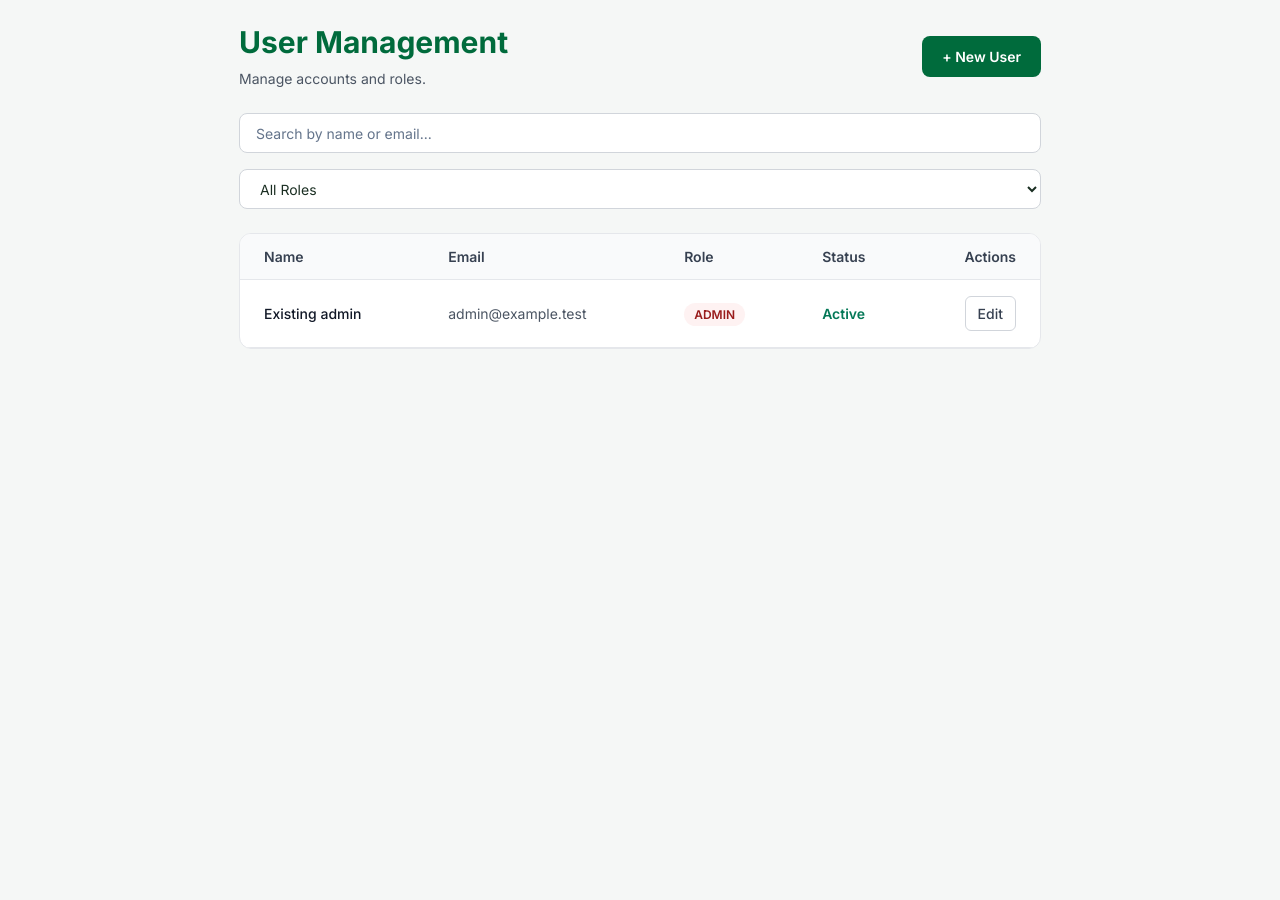
retains user fields on save failure and prevents repeated saves while pending
Expected: the text "Existing admin" is shown, [240,280,424,348]
Click the button "+ New User" at (982, 56), box [922,36,1041,77]
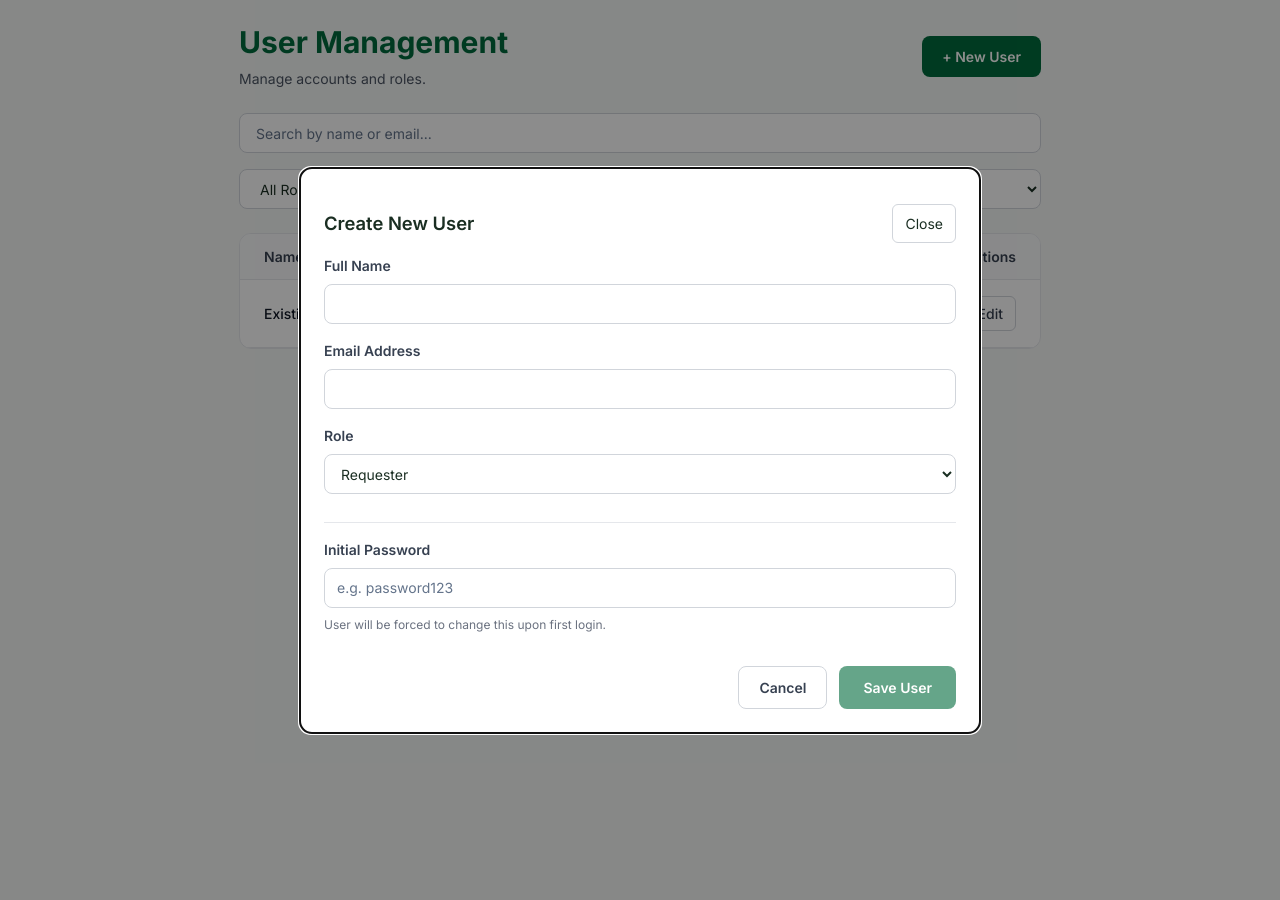
Type "Preserved name" into the field labelled "Full Name" at (640, 304), box [324,284,956,324]
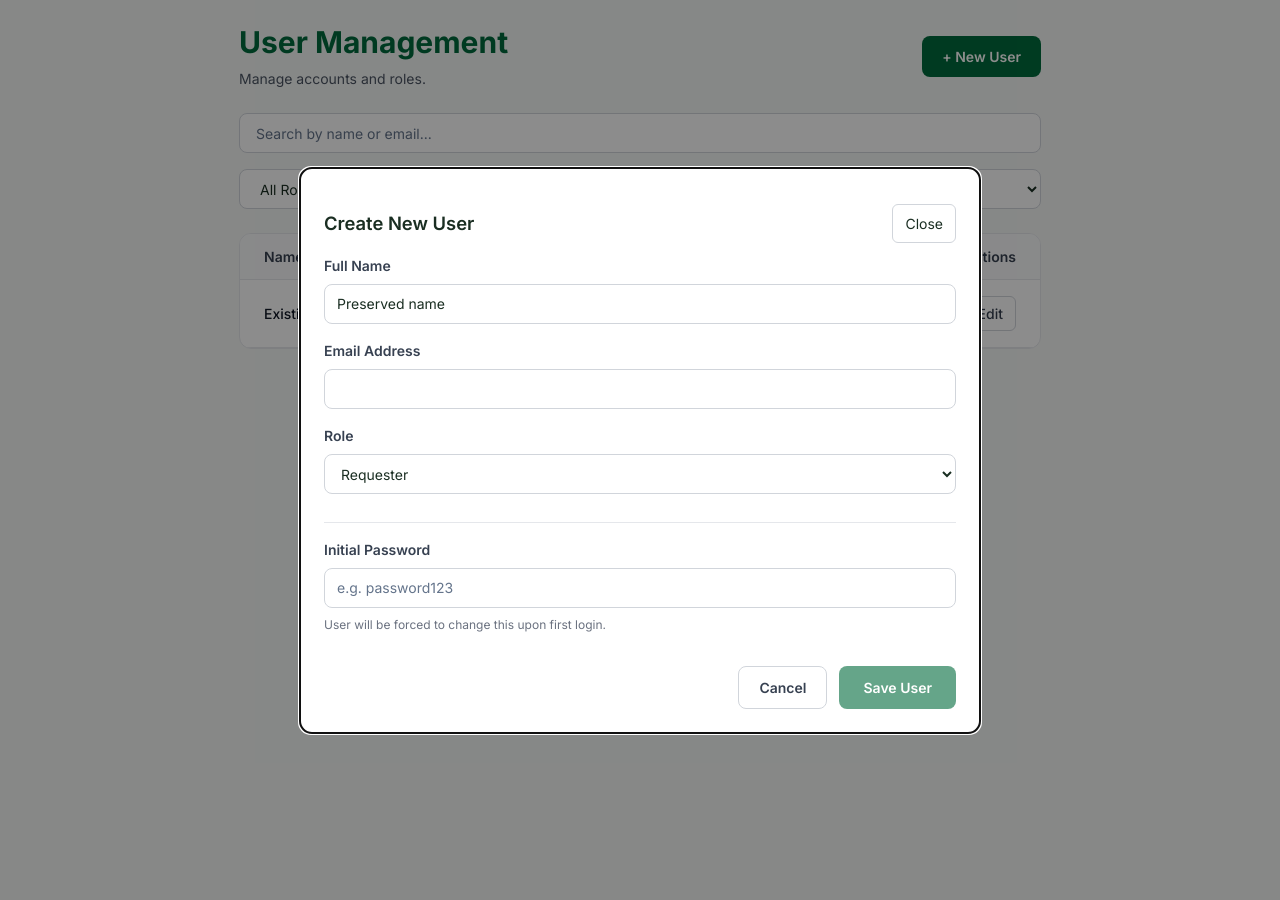
Type "preserved@example.test" into the field labelled "Email Address" at (640, 388), box [324,368,956,408]
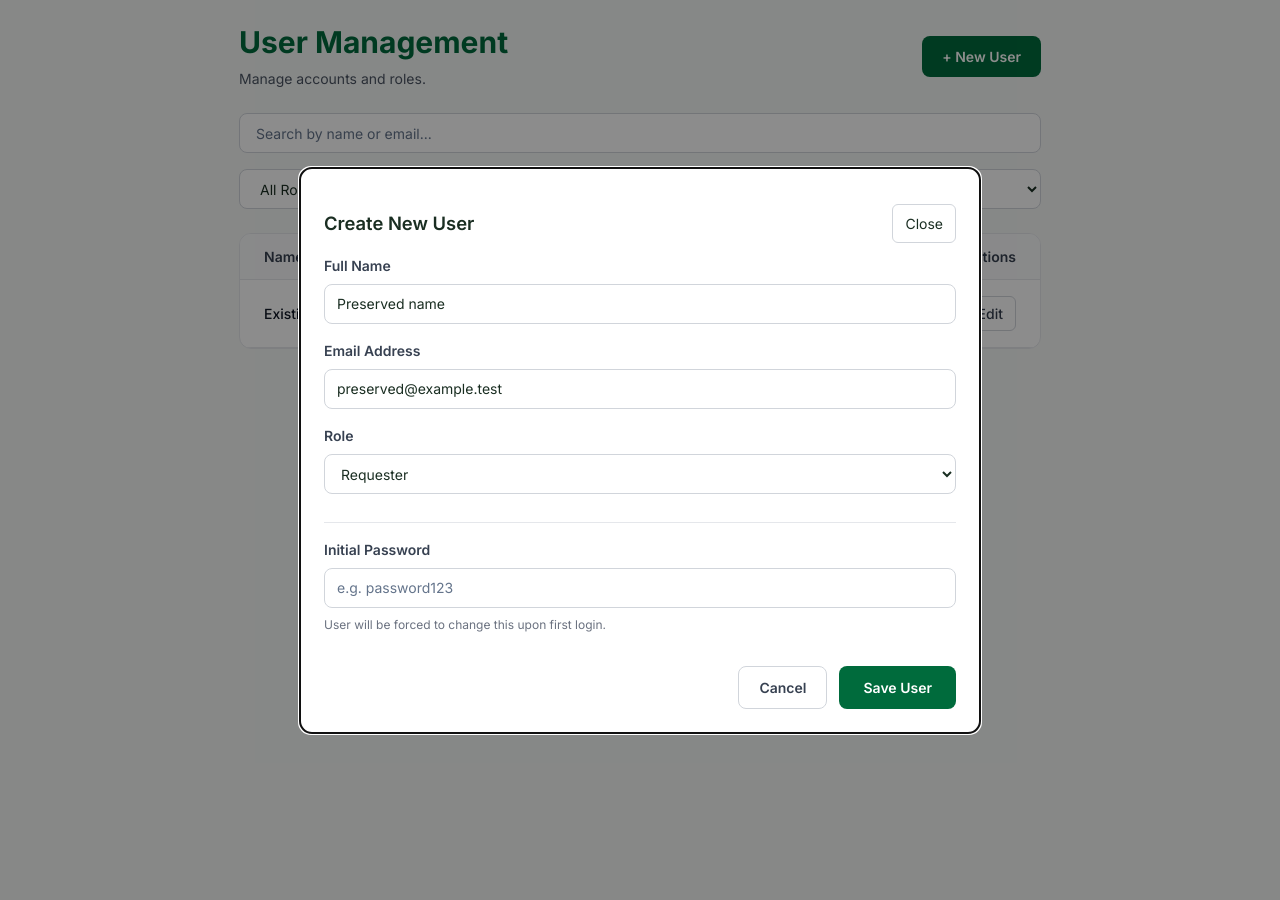
Type "password123" into the field labelled "Initial Password" at (640, 588), box [324,568,956,608]
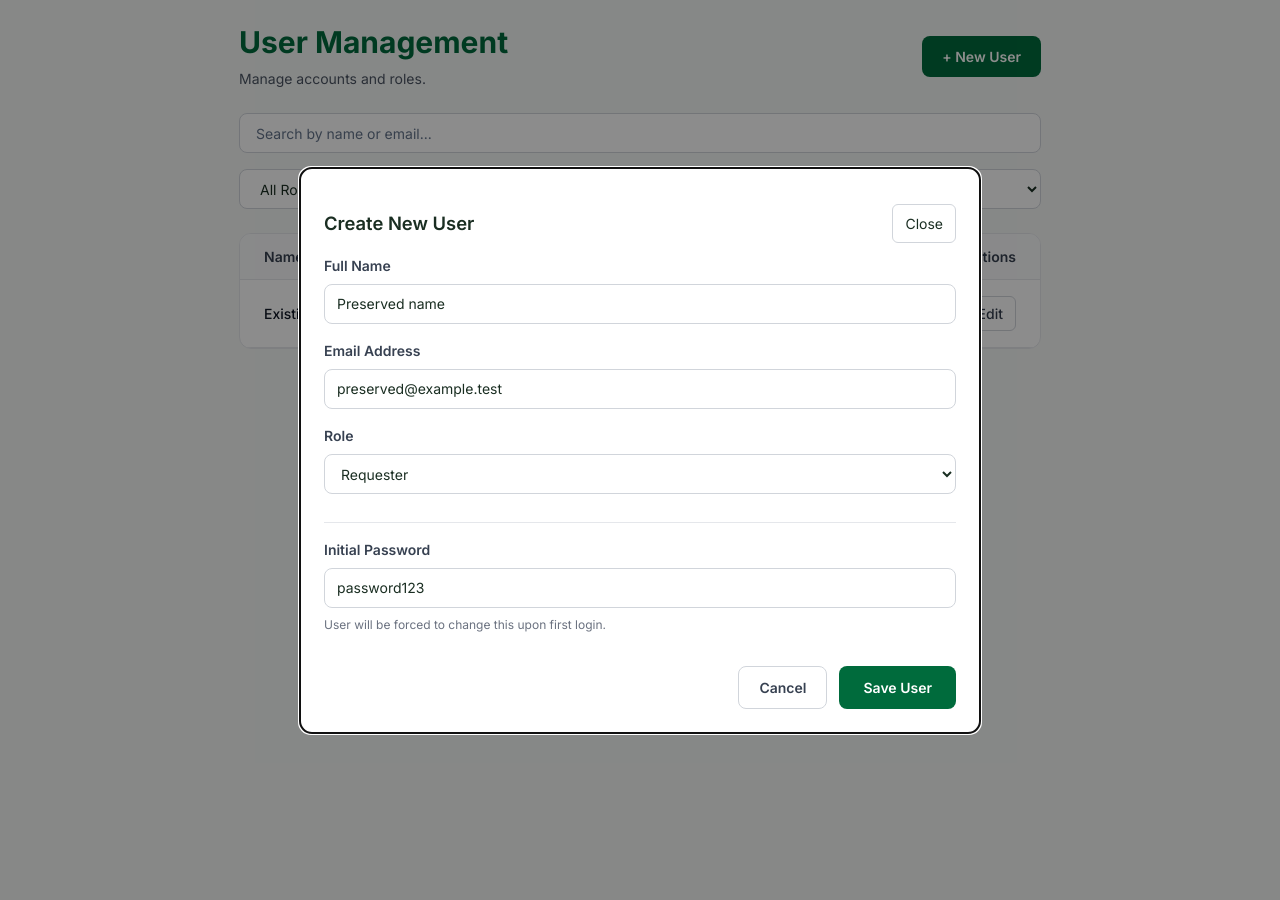
Click the button "Save User" at (898, 687), box [840,666,956,708]
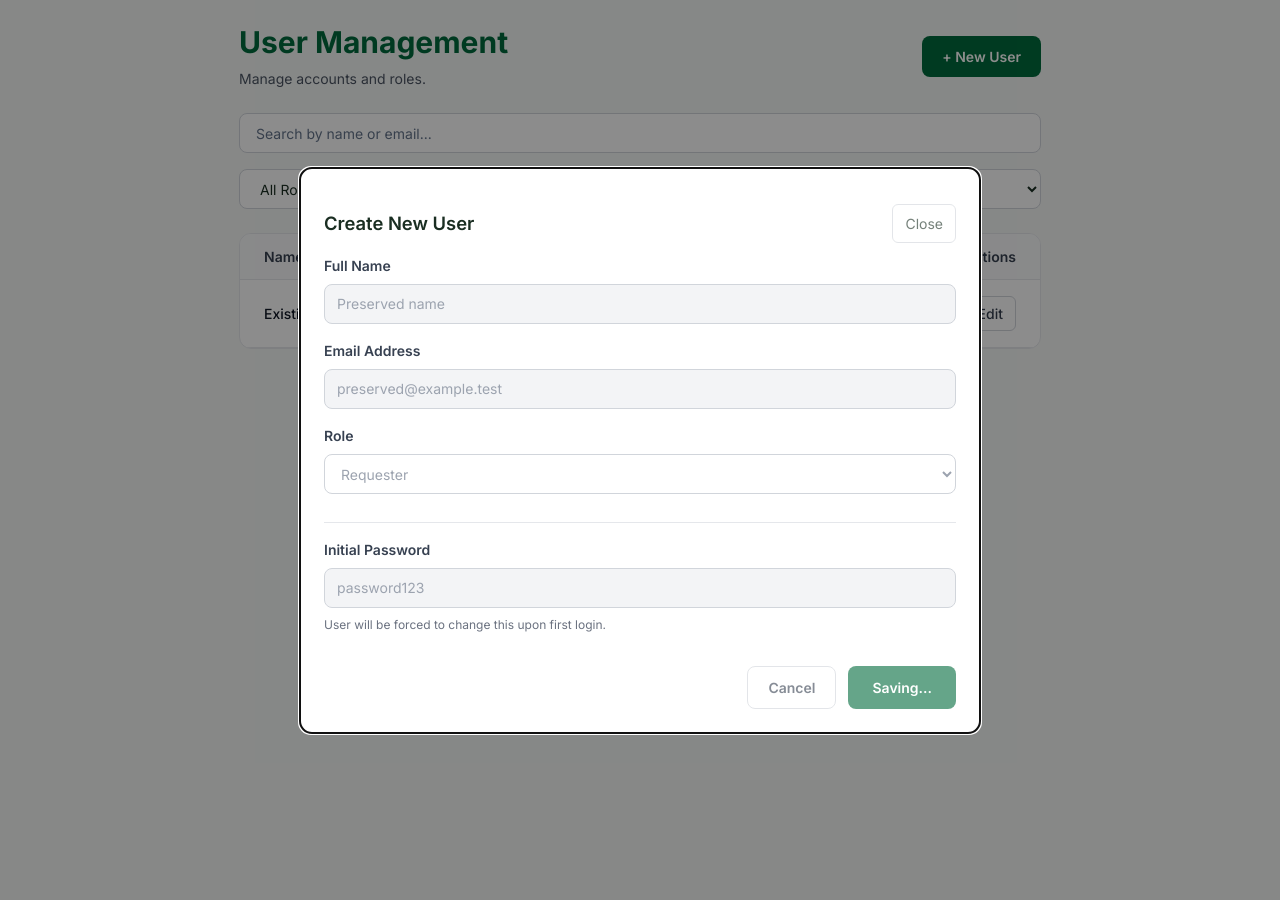
Click the button named "Save User" at (902, 687), box [848,666,956,708]
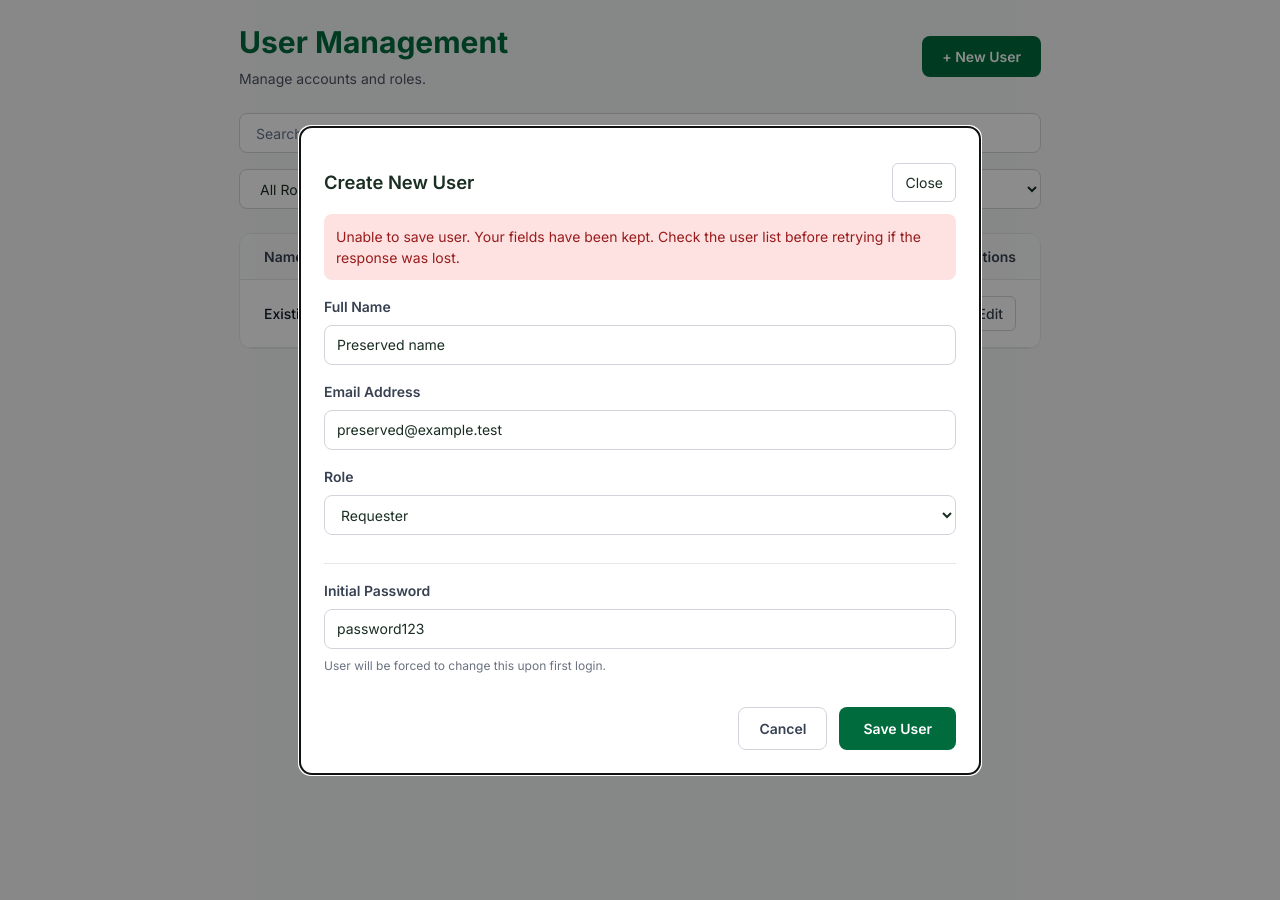
Expected: the message shows "Unable to save user", [336,228,921,266]
Expected: the button "Save User" is enabled, [840,706,956,750]
